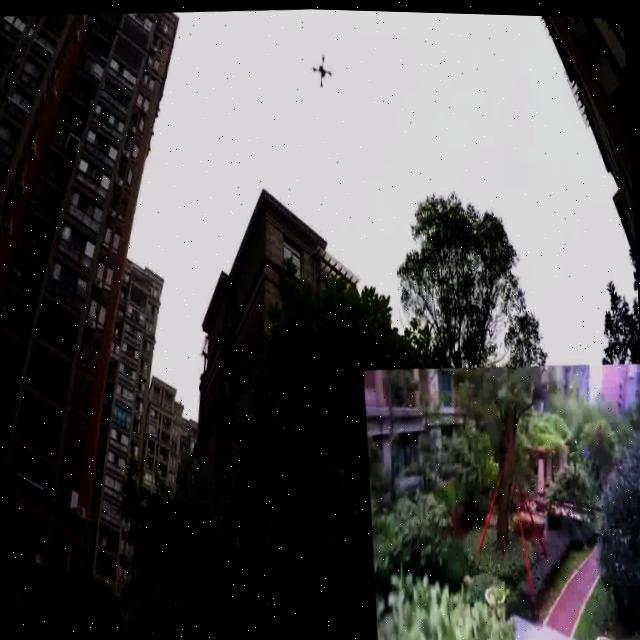drone: (298, 22, 334, 99)
